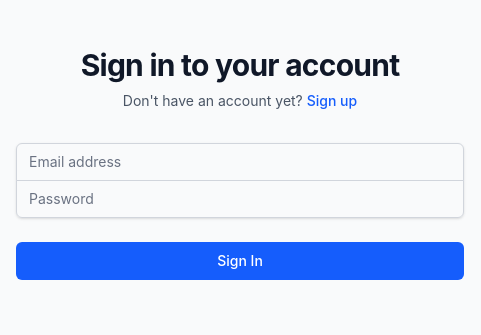
Scenario: Login › handles Error instance during registration
Click the button "Sign up" at (332, 100), box [307,90,357,110]
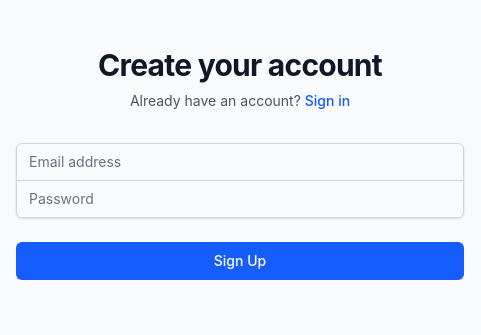
Type "new@b.com" into the field with placeholder "Email address" at (240, 162), box [16,142,464,180]
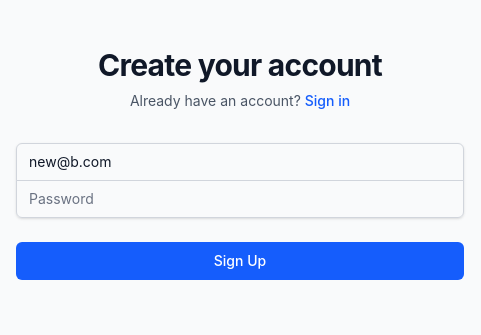
Type "pass123" into the password field with placeholder "Password" at (240, 198), box [16,180,464,218]
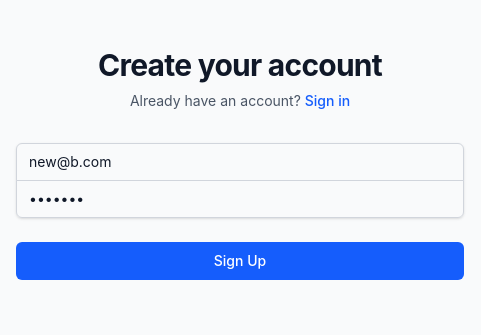
Click the button "Sign Up" at (240, 260), box [16,242,464,280]
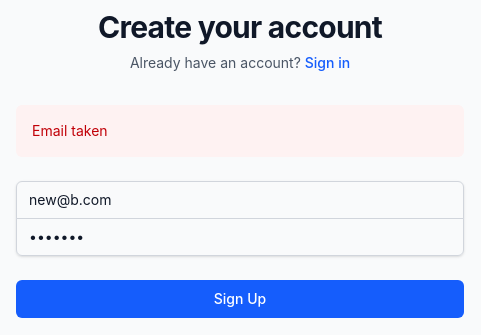
Now the text "Email taken" is shown, box [32,122,108,138]
